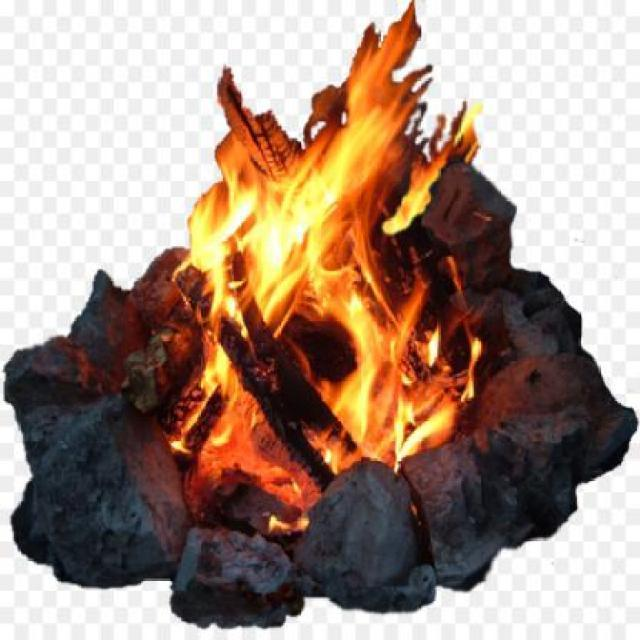Fire: (142, 8, 519, 545)
